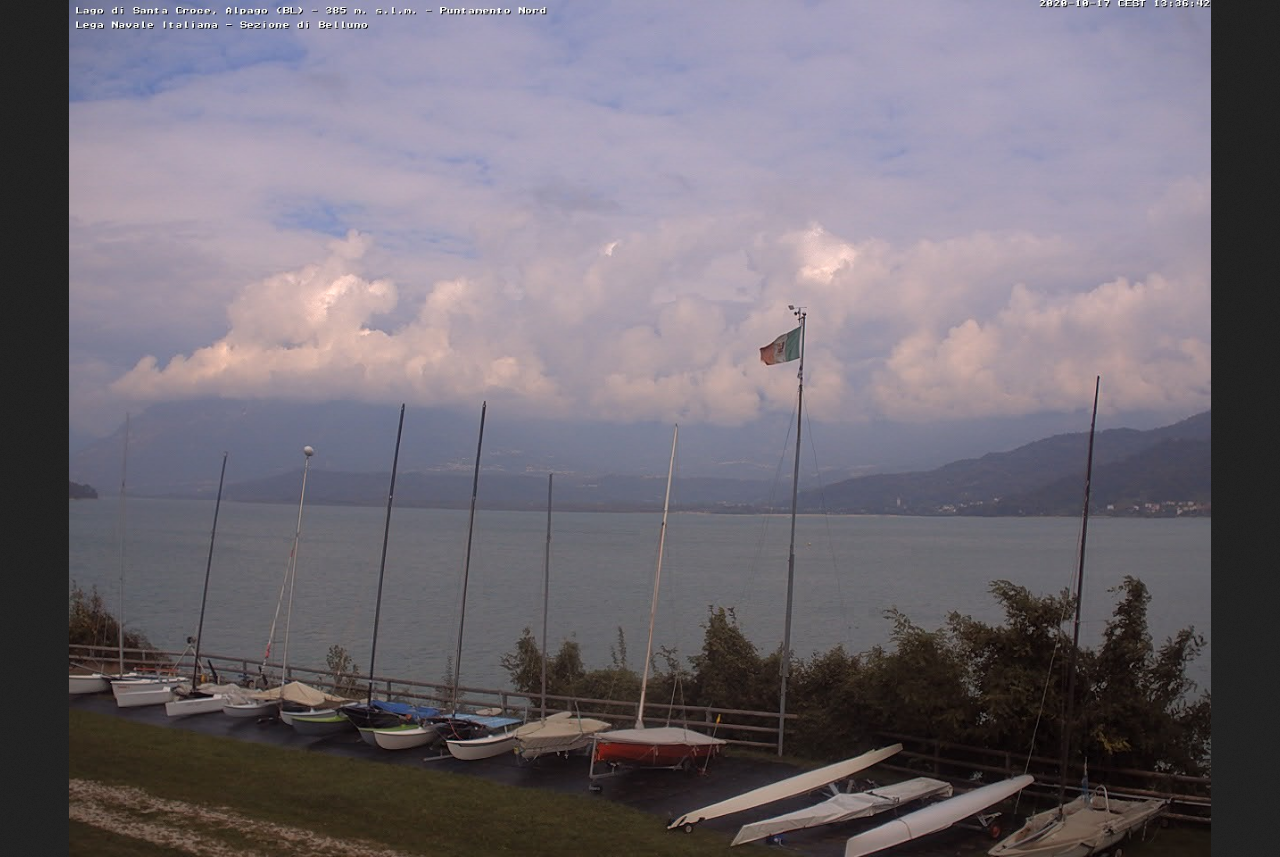yes: (757, 329, 802, 369)
